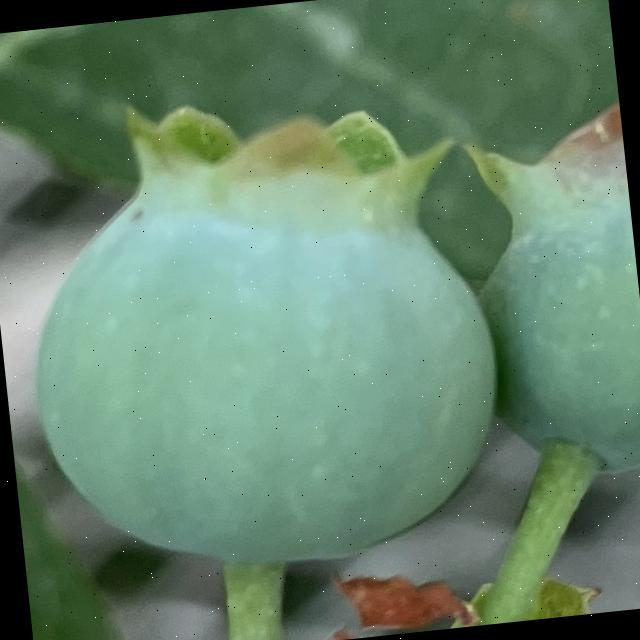Blueberries: (5, 68, 522, 590), (460, 94, 640, 480)
